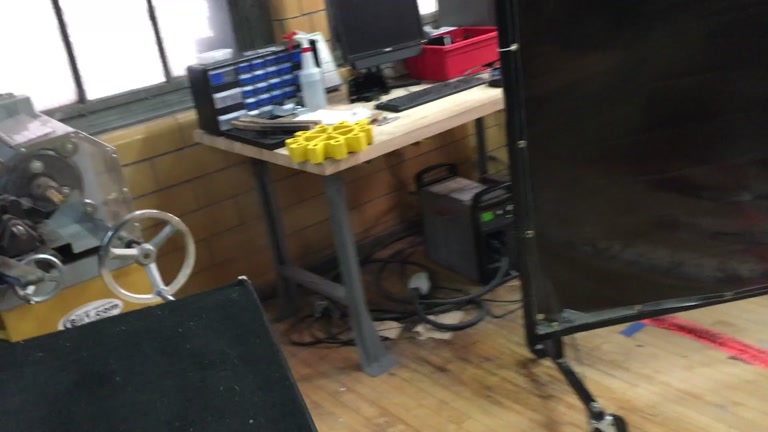gear: (285, 119, 373, 165)
